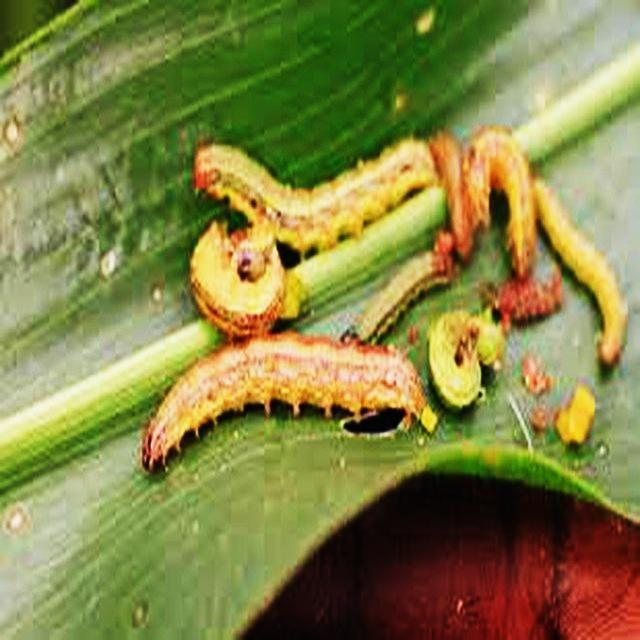gusano_cogollero: (127, 334, 430, 482), (192, 132, 434, 252)
